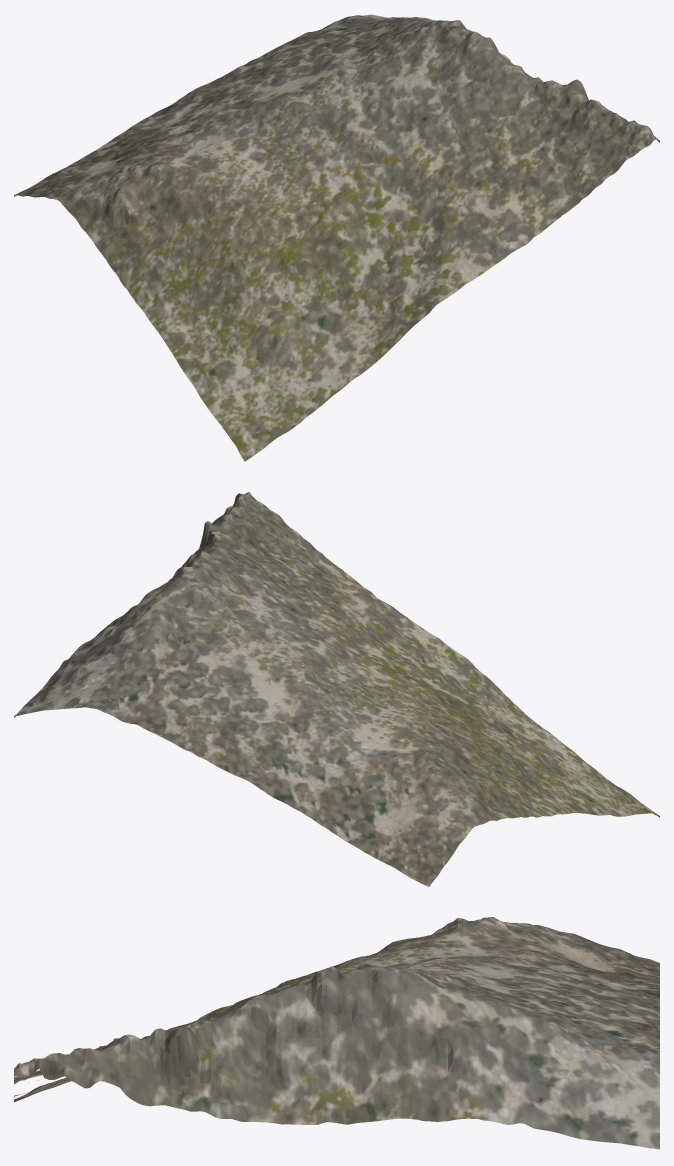
3 views of the same model, one above another, from view 1: azimuth 30°, elevation 25°; view 2: azimuth 150°, elevation 25°; view 3: azimuth 270°, elevation 25° (orthographic). The views are drawn at different scales.
Bounding box in the file's own units: 250 × 153 × 241.
1 material, 1 textured.
